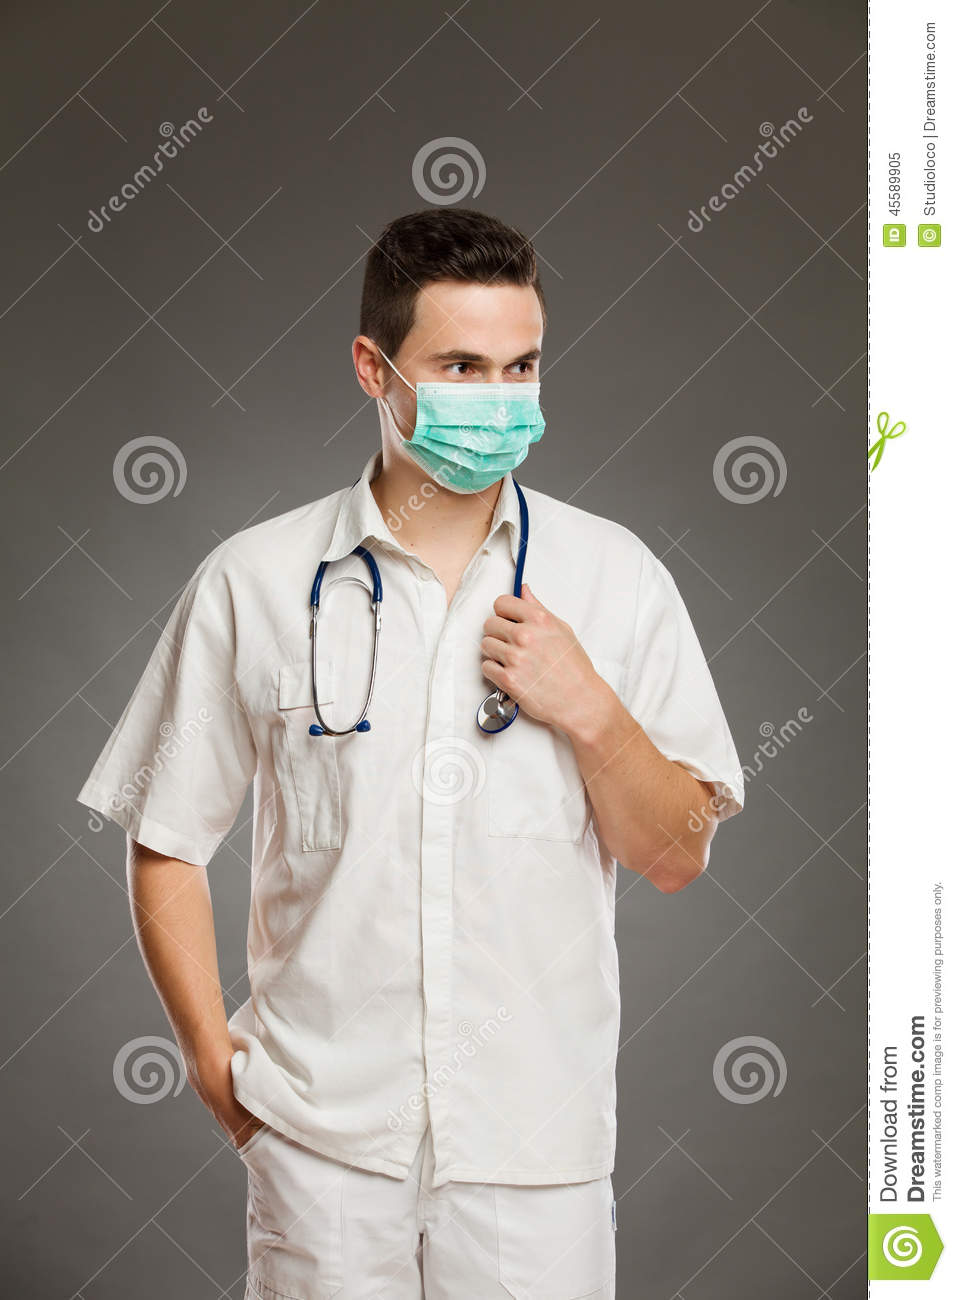mask: (398, 383, 570, 497)
